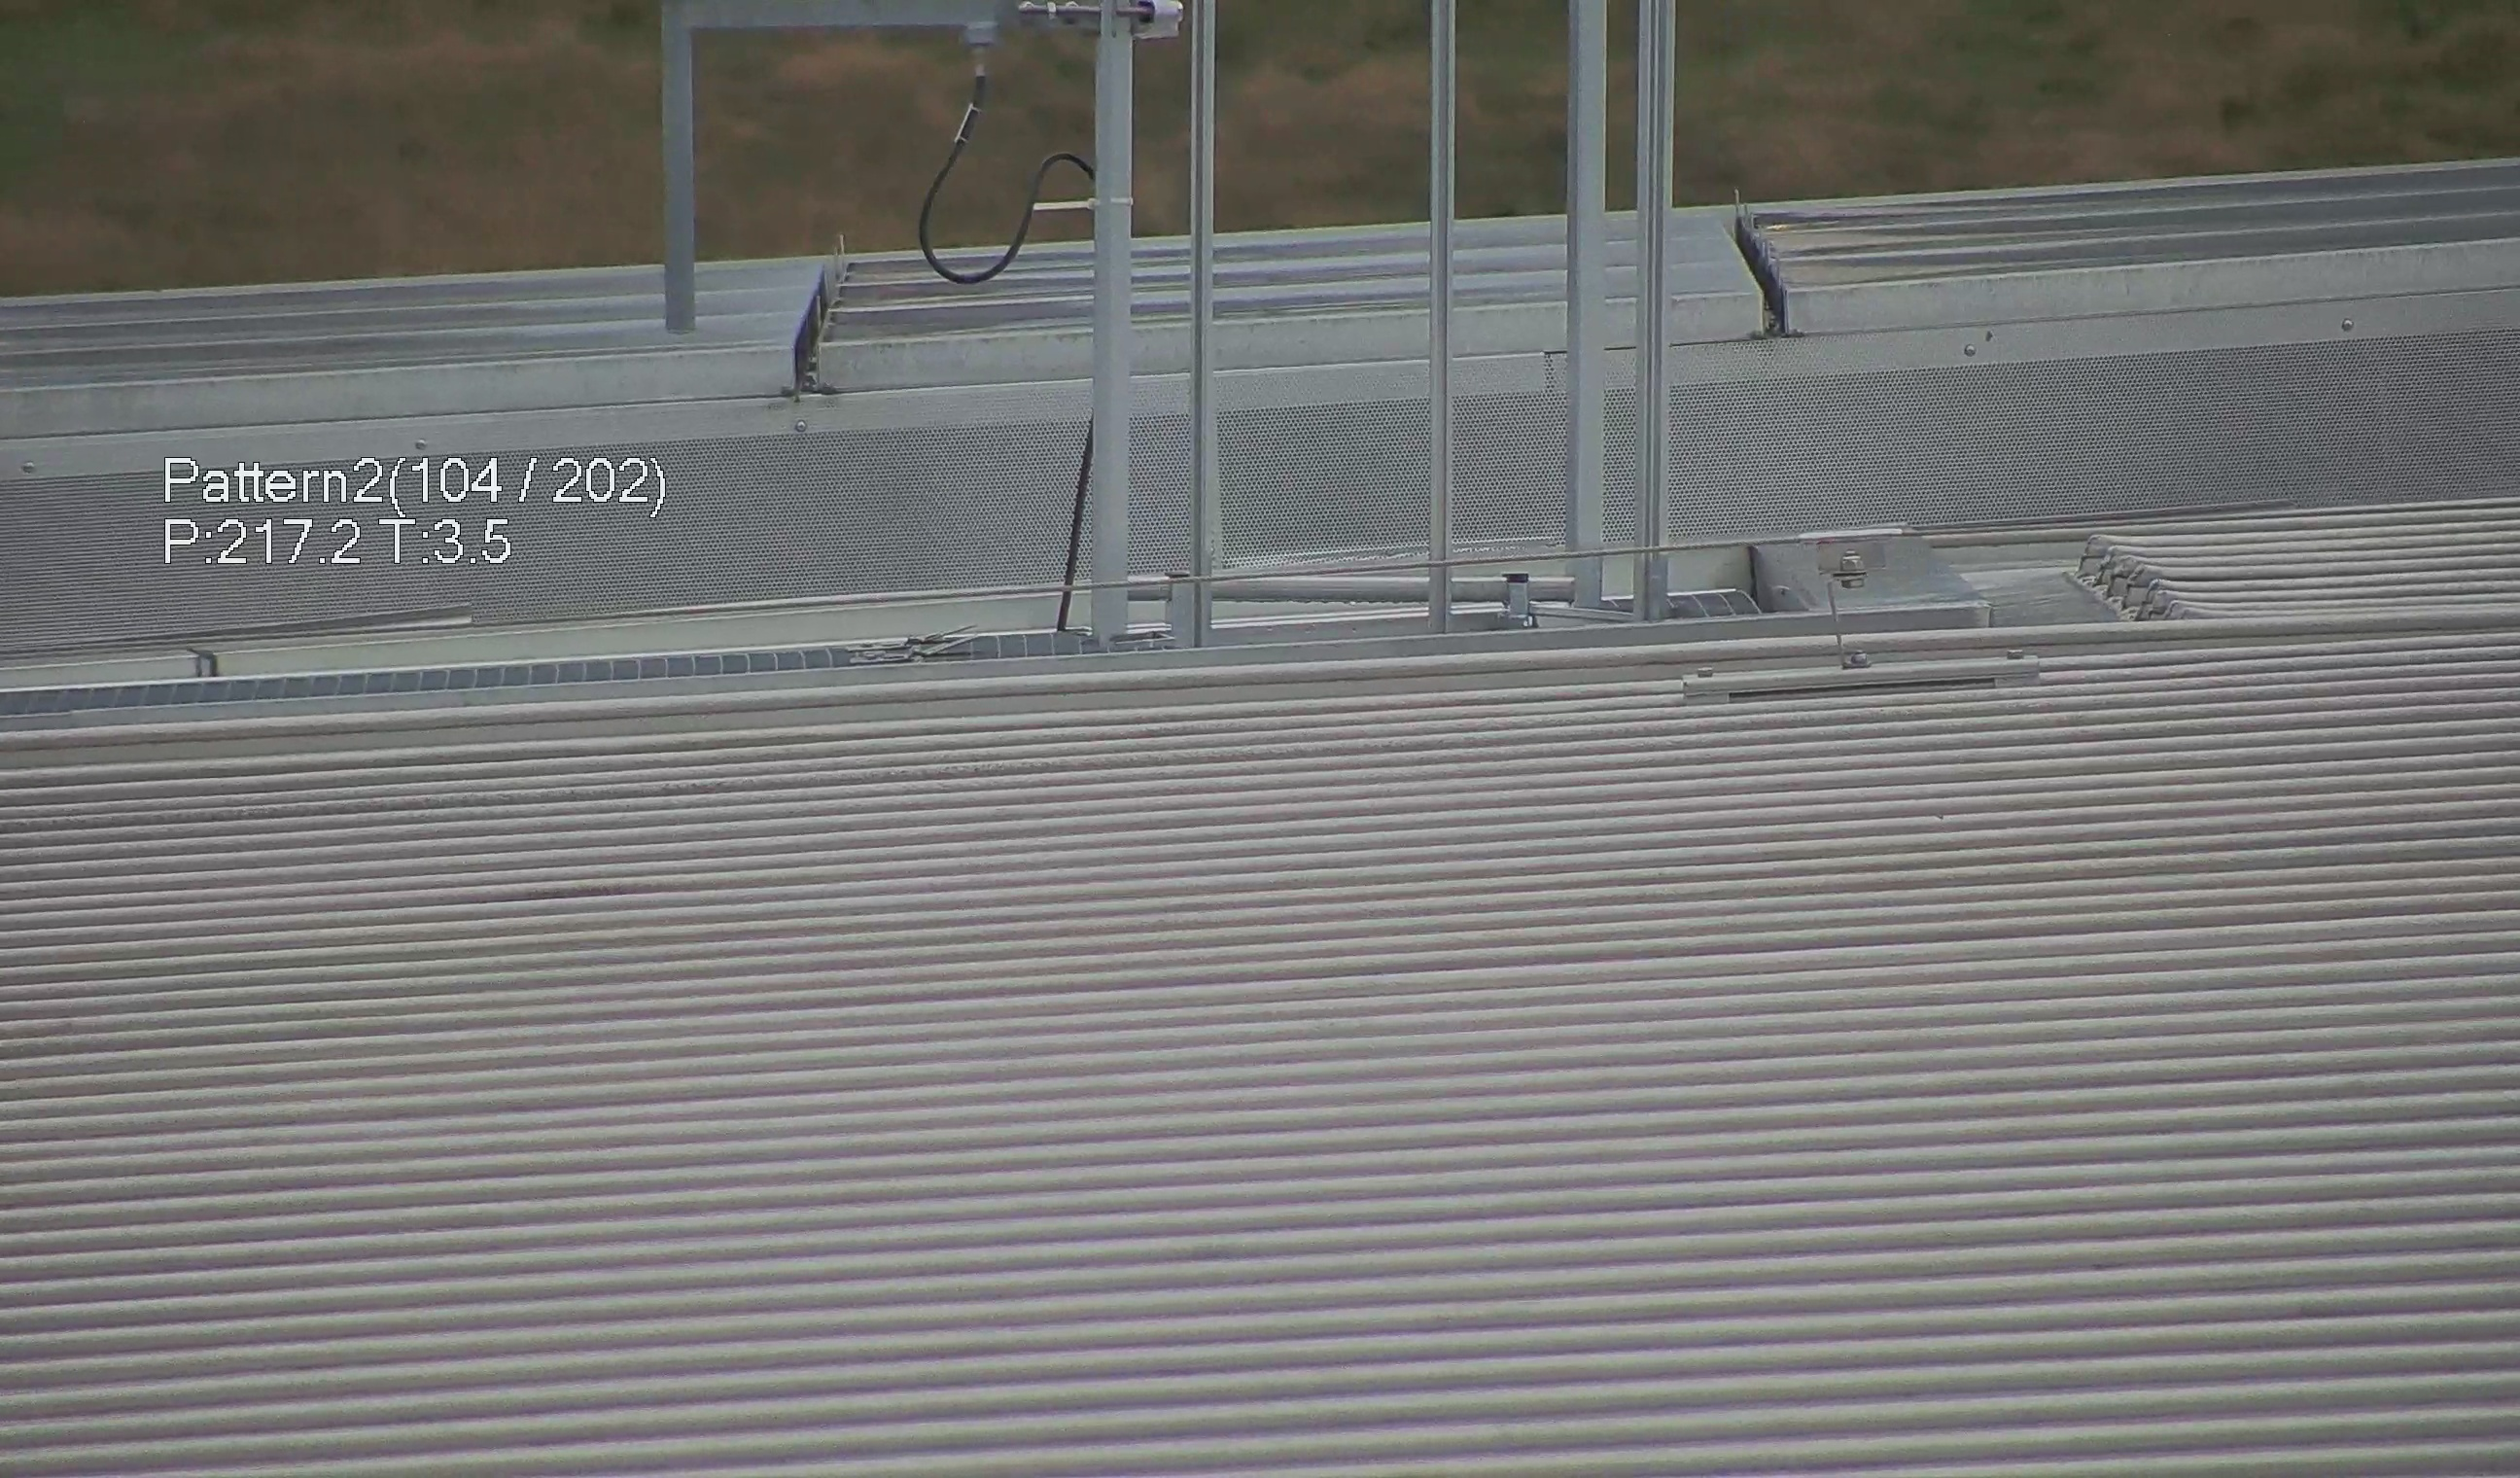Other: (1723, 187, 1818, 347)
